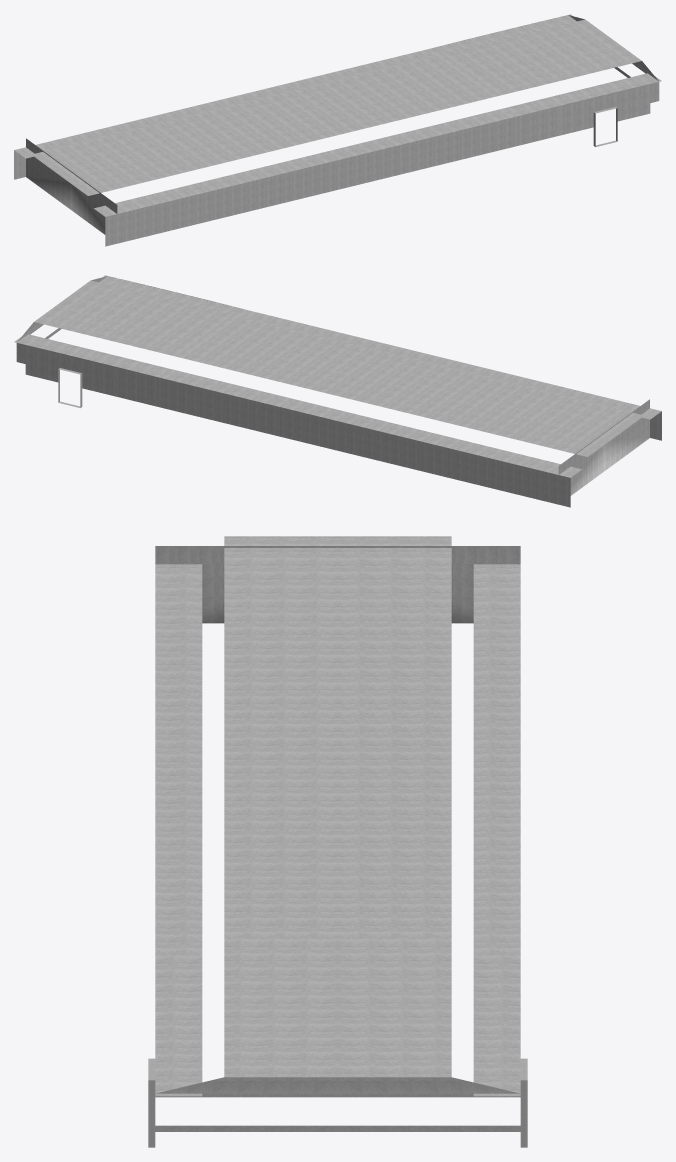
The model's file is buildingWalls3.obj.
3 renders of one model, top to bottom at view 1: azimuth 30°, elevation 25°; view 2: azimuth 150°, elevation 25°; view 3: azimuth 270°, elevation 25°, orthographic. The views are drawn at different scales.
Parts seen in each view (by area): view 1: buildingWalls3; view 2: buildingWalls3; view 3: buildingWalls3.
Part boxes in pixels (x1=…): buildingWalls3: x1=14, y1=14, x2=661, y2=246; buildingWalls3: x1=14, y1=275, x2=661, y2=507; buildingWalls3: x1=148, y1=536, x2=527, y2=1147.
Bounding box in the file's own units: 25.69 × 2.53 × 7.58.
1 material, 1 textured.
